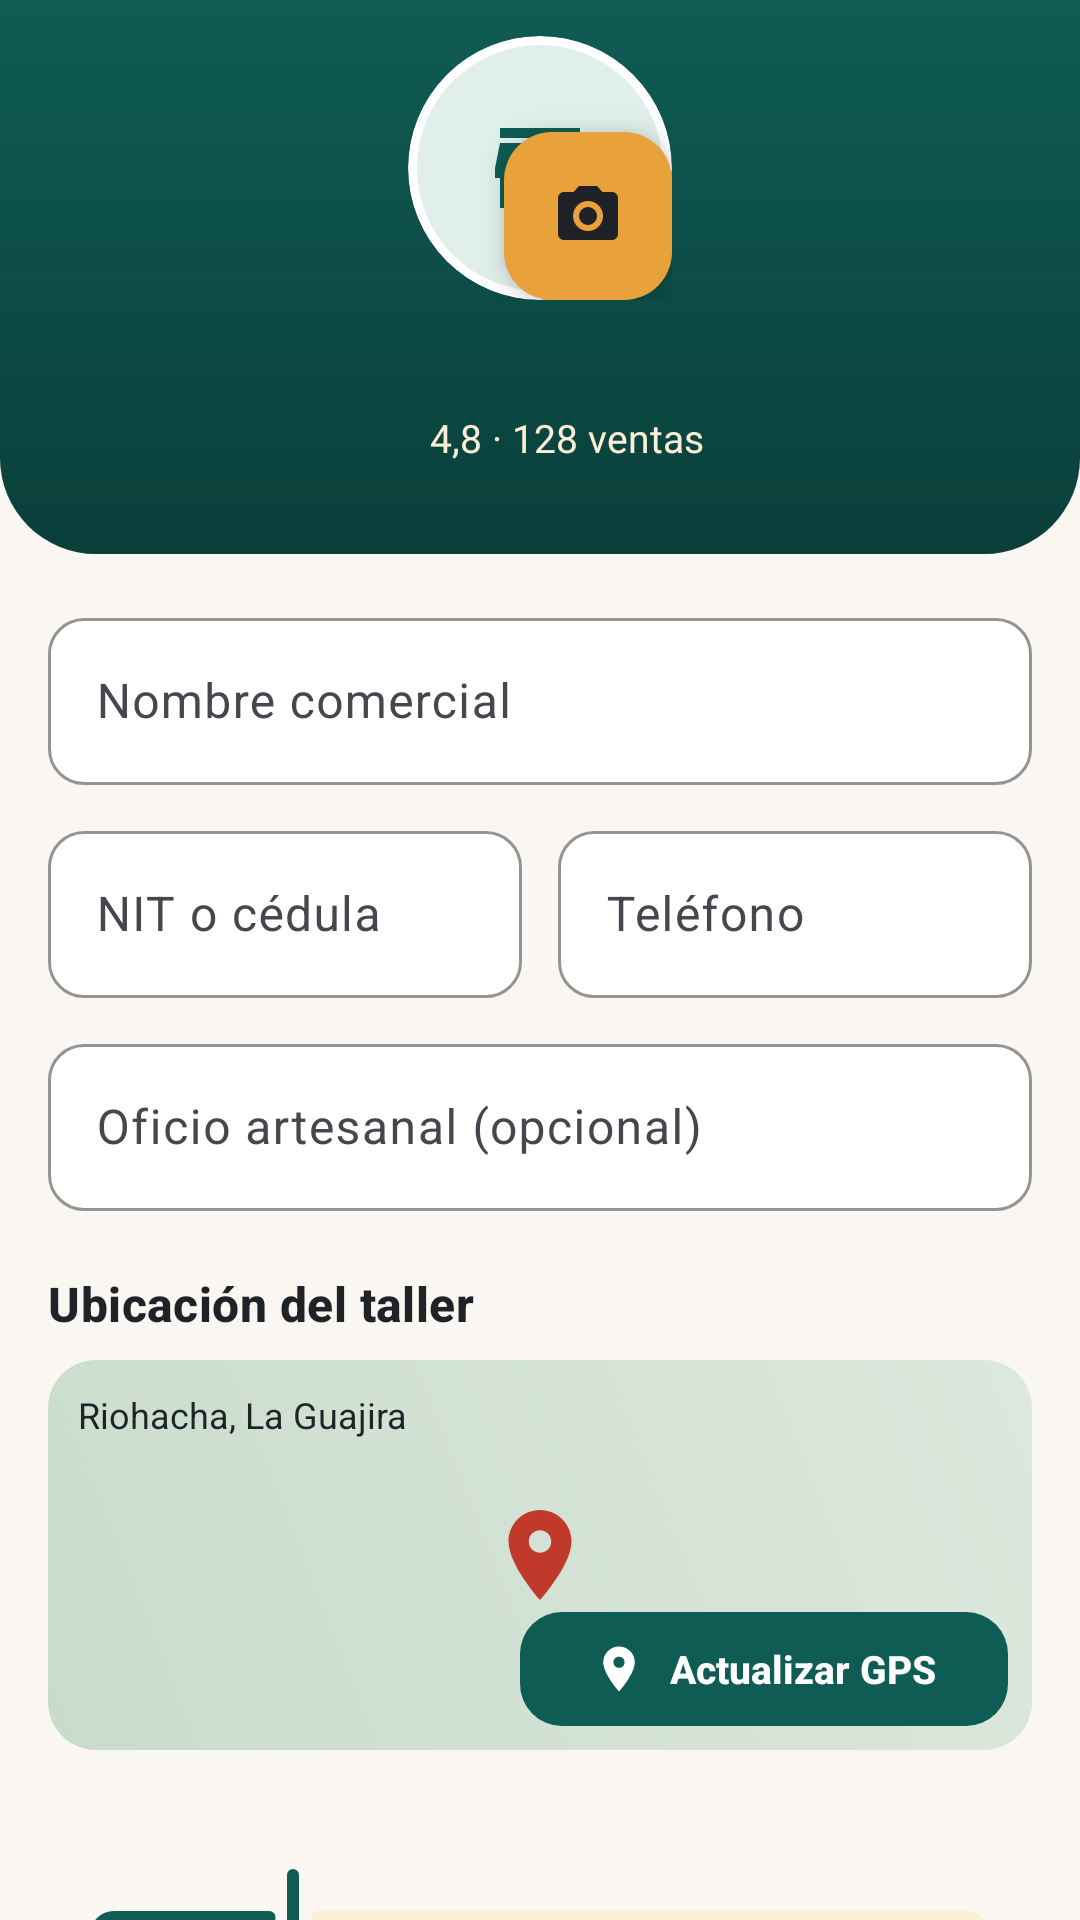

Where icons sit on this 1080px×1920px app screen, as [x1, y1, x2, y2]:
location: [508, 1510, 572, 1600]
Tomar foto: [504, 132, 672, 300]
